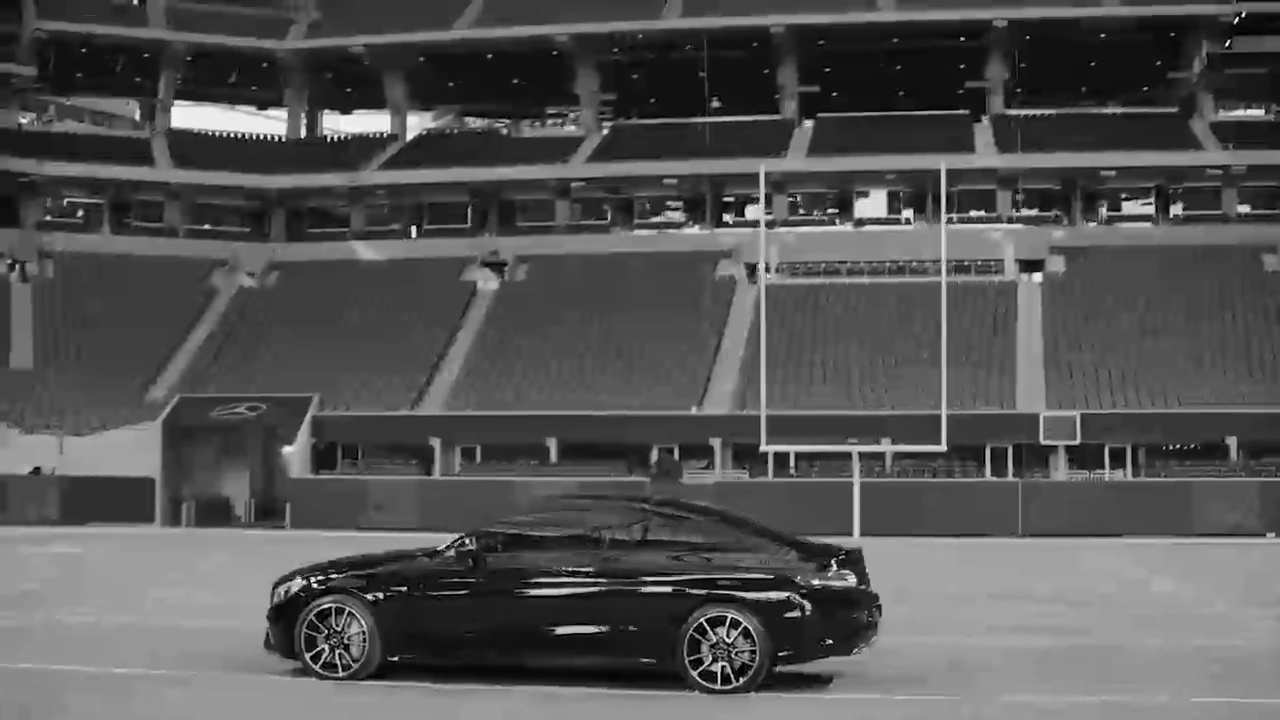car: (261, 493, 886, 695)
